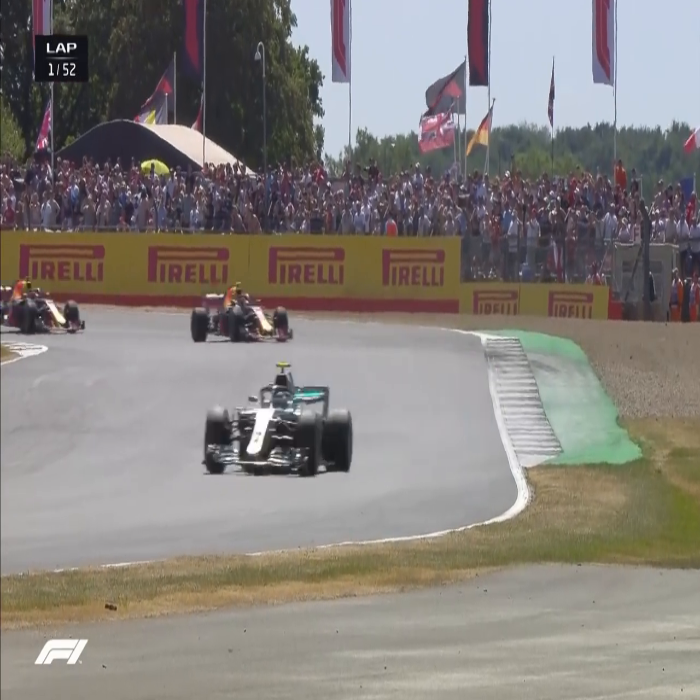f1_car: (187, 361, 373, 487), (183, 282, 304, 350), (4, 271, 95, 348)
